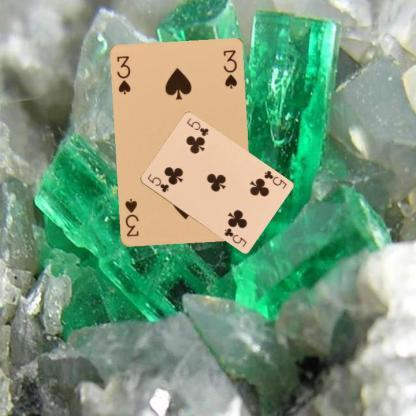3s: (115, 54, 132, 96)
5c: (144, 171, 170, 194), (261, 168, 288, 190)
